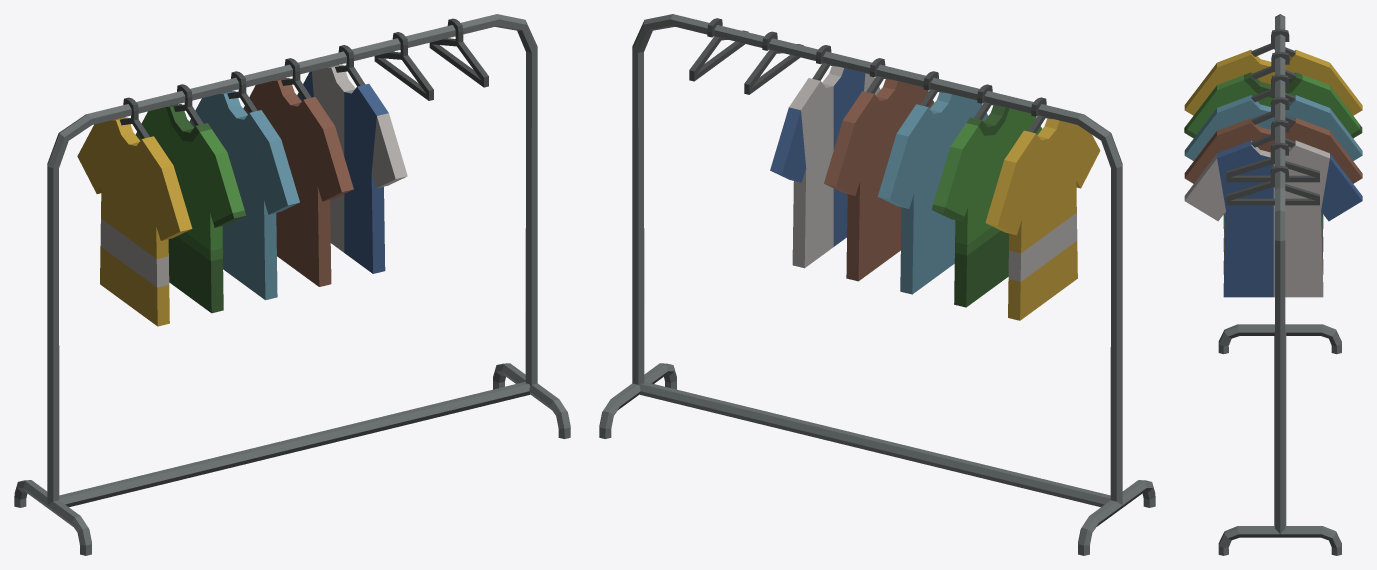
The model's file is SM_Props_Interior_Shop_Clothes_DisplayStand_Shirt.fbx.
The picture shows the model from 3 angles, left to right: view 1: azimuth 30°, elevation 25°; view 2: azimuth 150°, elevation 25°; view 3: azimuth 270°, elevation 25°; orthographic projection. The views are drawn at different scales.
Parts seen in each view (by area): view 1: SM_Props_Interior_Shop_Clothes_DisplayStand_Shirt; view 2: SM_Props_Interior_Shop_Clothes_DisplayStand_Shirt; view 3: SM_Props_Interior_Shop_Clothes_DisplayStand_Shirt.
Part boxes in pixels (<box>): SM_Props_Interior_Shop_Clothes_DisplayStand_Shirt: <box>14,14,570,555</box>; SM_Props_Interior_Shop_Clothes_DisplayStand_Shirt: <box>599,14,1155,555</box>; SM_Props_Interior_Shop_Clothes_DisplayStand_Shirt: <box>1184,14,1362,555</box>.
Size of the model in its own units: 205 by 164 by 74.59.
